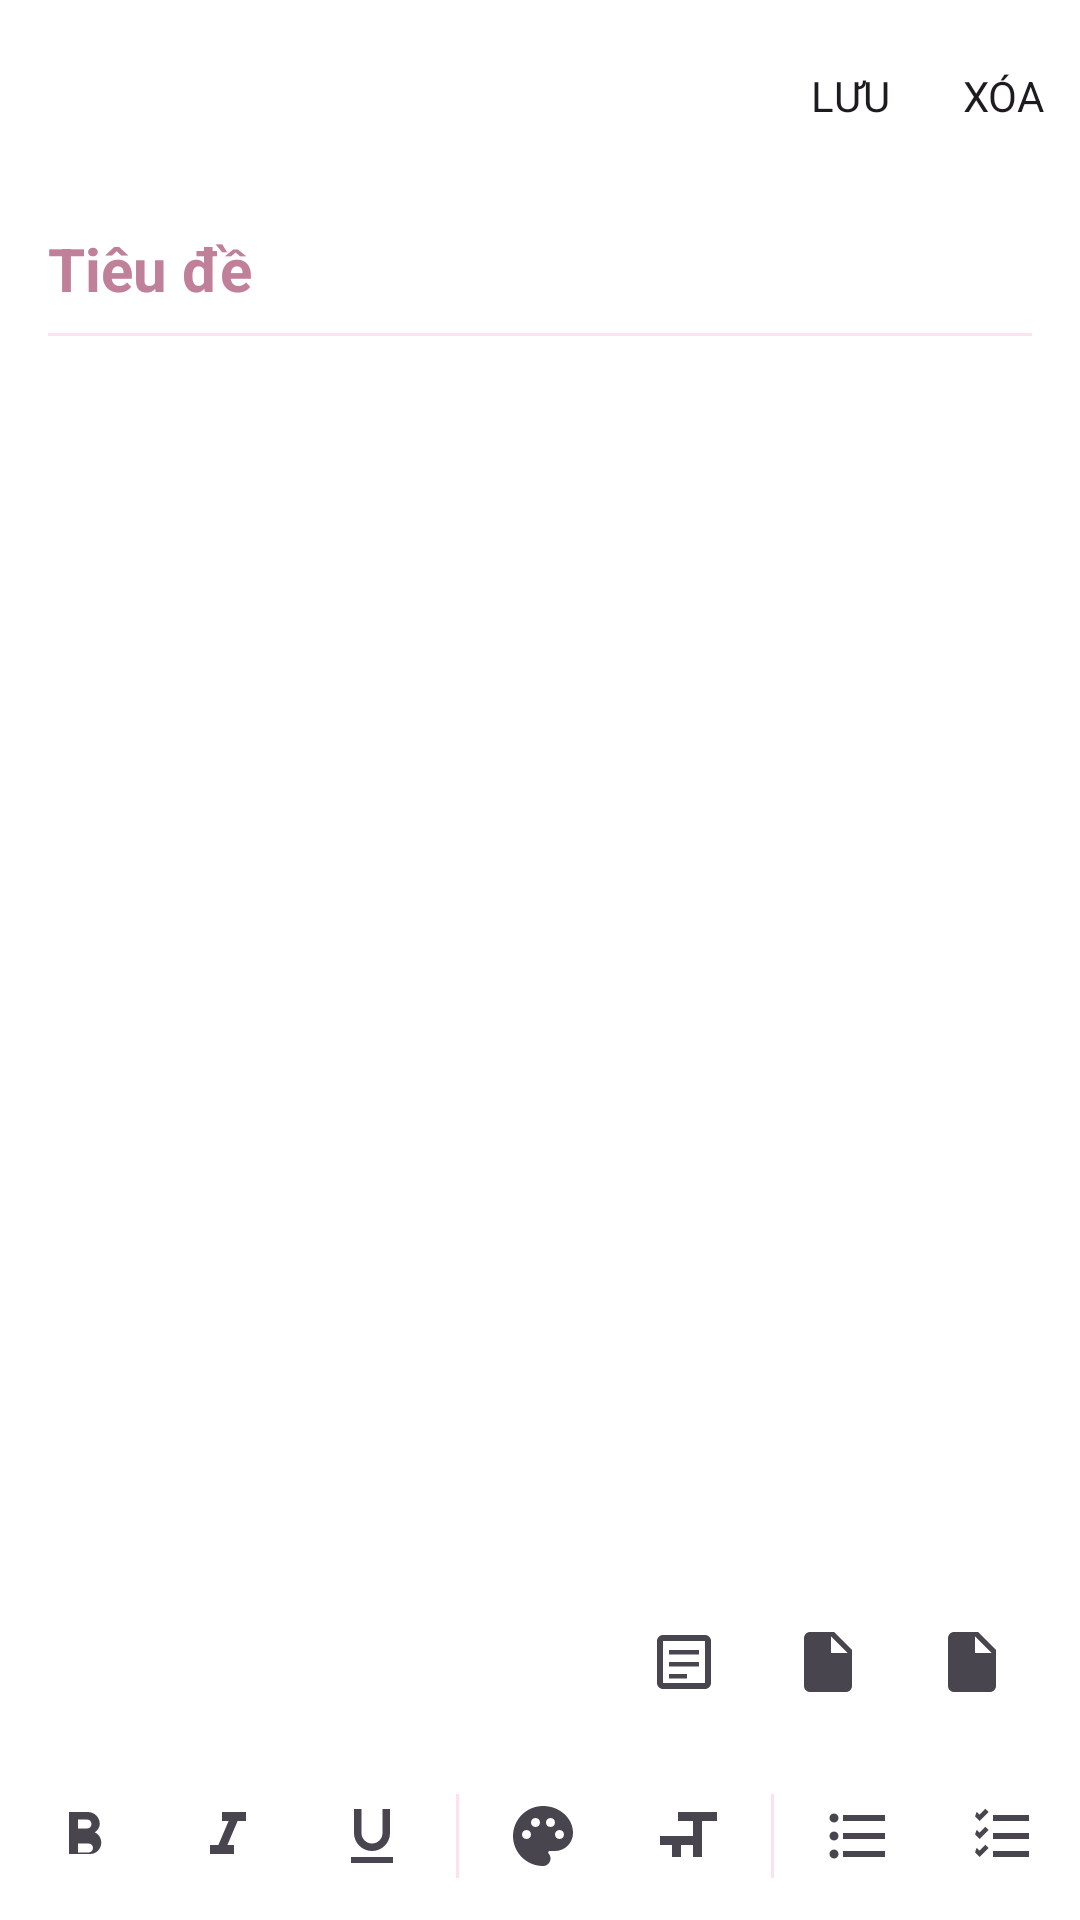

Icons on this 1080*1920 Android screen, each with its box as box(x1, y1, x2, y2):
Cỡ chữ: box(660, 1812, 717, 1857)
Danh sách việc cần làm: box(975, 1809, 1029, 1857)
Gạch chân: box(351, 1809, 393, 1863)
Gạch đầu dòng: box(829, 1813, 885, 1859)
In nghiêng: box(210, 1812, 246, 1854)
In đậm: box(69, 1812, 102, 1854)
Kiểu nền giấy: box(657, 1635, 711, 1689)
Màu chữ: box(513, 1806, 573, 1866)
